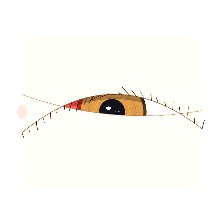hemorrhage_spot: (42, 79, 112, 135)
